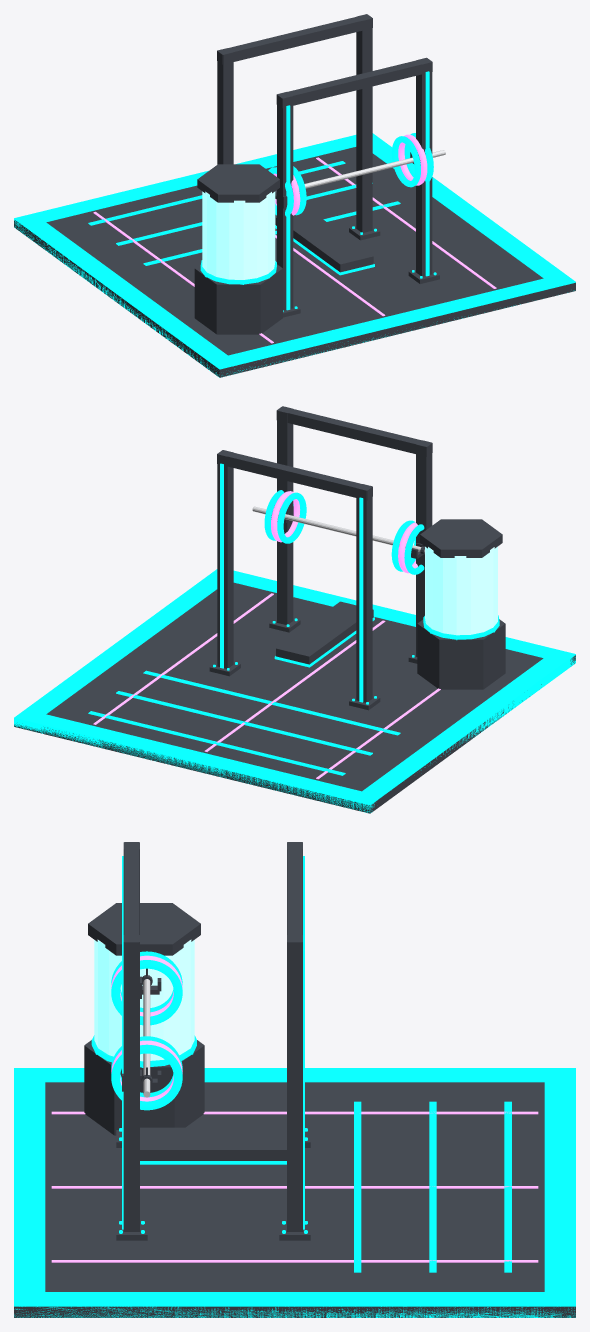
Rendered from VipTable2_CyberNeon.fbx.
The picture shows the model from 3 angles, top to bottom: view 1: azimuth 30°, elevation 25°; view 2: azimuth 150°, elevation 25°; view 3: azimuth 270°, elevation 25°; orthographic projection. The views are drawn at different scales.
Parts seen in each view (by area): view 1: VipTable2, Cylinder.212, VipTable2_RimEW_-1, VipTable2_RimNS_-1, Cylinder.210, VipTable2_RimNS_1, Cube.110, VipTable2_RimEW_1, Cube.121, Cylinder.213, Cube.101, Cube.107 (+12 smaller); view 2: VipTable2, VipTable2_RimNS_1, Cylinder.212, VipTable2_RimEW_-1, Cylinder.210, VipTable2_RimEW_1, Cube.104, VipTable2_RimNS_-1, Cube.110, Cube.121, Cube.107, Cylinder.213 (+13 smaller); view 3: VipTable2, VipTable2_RimEW_1, VipTable2_RimNS_1, VipTable2_RimNS_-1, Cylinder.212, Cylinder.210, VipTable2_RimEW_-1, Cube.121, Cube.107, Cube.110, Cylinder.213, Cube.113 (+10 smaller).
Part boxes in pixels (x1,y1,x2,y2): VipTable2: (14, 147, 575, 377); Cylinder.212: (202, 191, 275, 279); VipTable2_RimEW_-1: (25, 222, 227, 368); VipTable2_RimNS_-1: (208, 273, 575, 377); Cylinder.210: (194, 264, 282, 334); VipTable2_RimNS_1: (14, 133, 381, 234); Cube.110: (356, 14, 372, 232); VipTable2_RimEW_1: (372, 139, 563, 278); Cube.121: (276, 209, 373, 272); Cylinder.213: (197, 164, 279, 202); Cube.101: (277, 92, 293, 310); Cube.107: (416, 57, 432, 276); VipTable2: (14, 582, 575, 813); VipTable2_RimNS_1: (14, 709, 381, 813); Cylinder.212: (425, 546, 497, 635); VipTable2_RimEW_-1: (362, 657, 564, 796); Cylinder.210: (417, 619, 505, 689); VipTable2_RimEW_1: (26, 575, 217, 714); Cube.104: (356, 484, 372, 702); VipTable2_RimNS_-1: (208, 569, 575, 670); Cube.110: (217, 450, 233, 668); Cube.121: (276, 601, 373, 664); Cube.107: (277, 406, 293, 624); Cylinder.213: (420, 519, 502, 557); VipTable2: (14, 1082, 575, 1317); VipTable2_RimEW_1: (45, 1292, 544, 1317); VipTable2_RimNS_1: (544, 1068, 575, 1317); VipTable2_RimNS_-1: (14, 1068, 45, 1317); Cylinder.212: (94, 939, 194, 1061); Cylinder.210: (84, 1040, 204, 1135); VipTable2_RimEW_-1: (45, 1068, 544, 1082); Cube.121: (140, 1127, 286, 1160); Cube.107: (123, 935, 139, 1231); Cube.110: (287, 935, 302, 1231); Cylinder.213: (88, 903, 200, 955); Cube.113: (124, 842, 139, 955).
Size of the model in its own units: 4.48 by 4.48 by 2.7.
